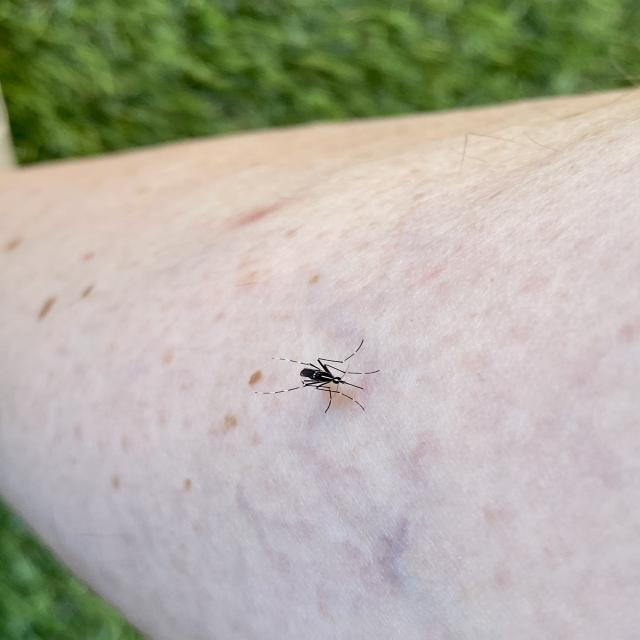albopictus: (252, 332, 388, 413)
